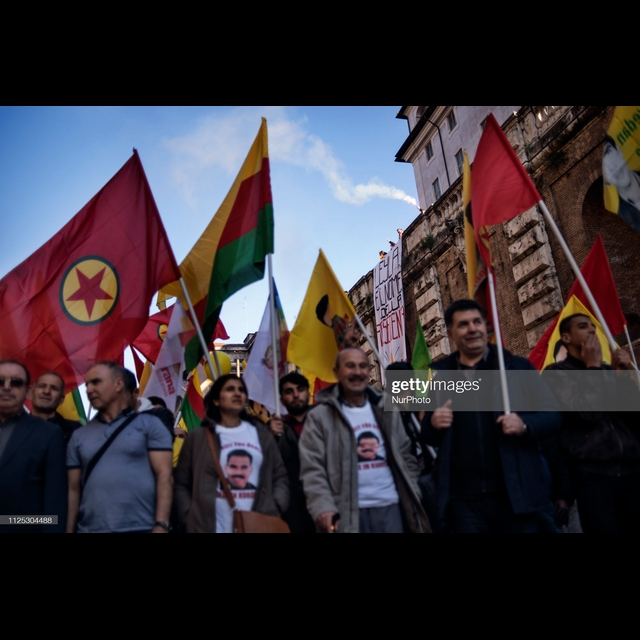APO: (218, 446, 257, 497)
PKK: (50, 251, 132, 330)
